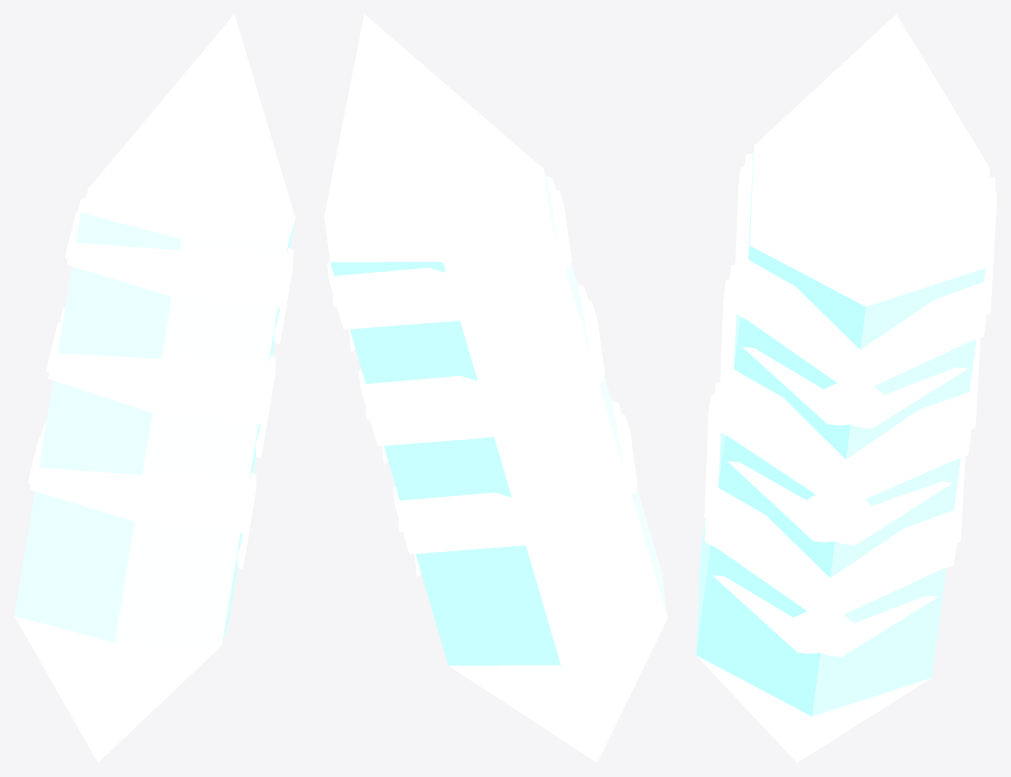
File: airah_shard.glb
3 renders of one model, left to right at view 1: azimuth 30°, elevation 25°; view 2: azimuth 150°, elevation 25°; view 3: azimuth 270°, elevation 25°, orthographic. The views are drawn at different scales.
Parts seen in each view (by area): view 1: airah_shard; view 2: airah_shard; view 3: airah_shard.
Boxes of the visible parts, x1,y1,x2,y2 form: airah_shard: (14, 14, 295, 762); airah_shard: (324, 14, 667, 762); airah_shard: (696, 14, 996, 762).
Bounding box in the file's own units: 0.1109 × 0.24 × 0.0762.
